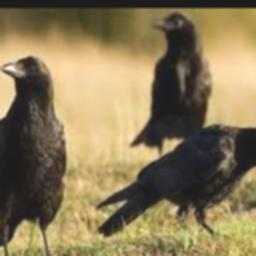Crow: (96, 123, 256, 239), (0, 55, 67, 256), (129, 12, 211, 160)
